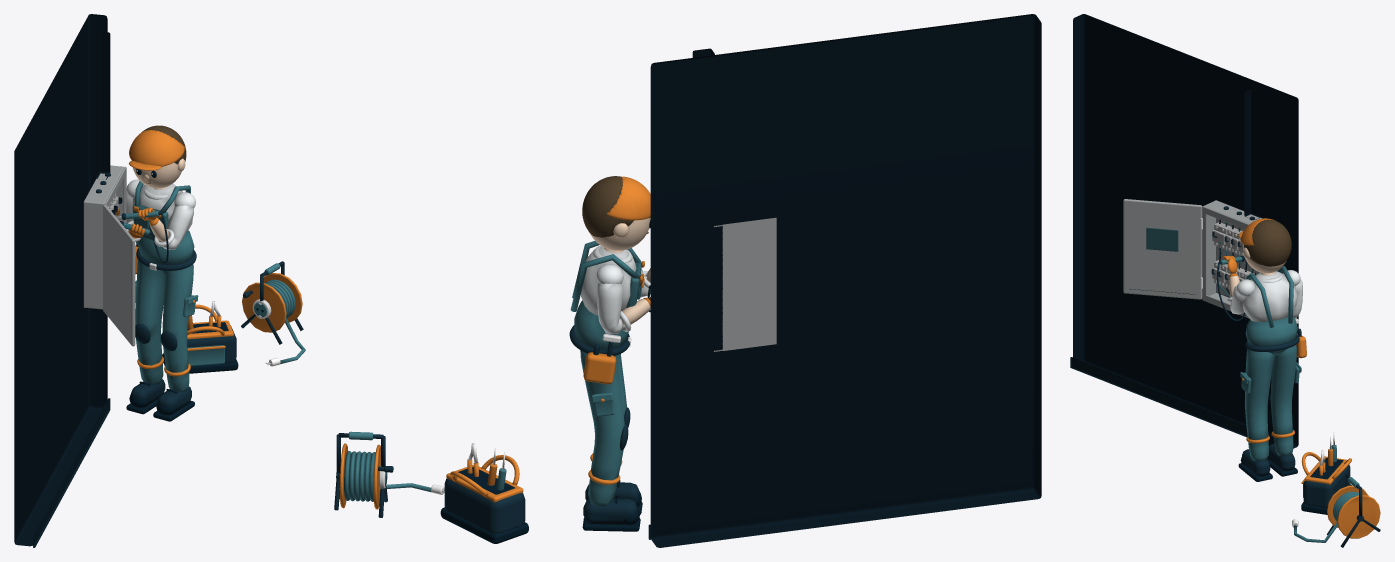
File: bild-5.glb
3 renders of one model, left to right at view 1: azimuth 30°, elevation 25°; view 2: azimuth 150°, elevation 25°; view 3: azimuth 270°, elevation 25°, orthographic. The views are drawn at different scales.
Visible parts, largest first — view 1: Kabelkanal, FachkraftBauch, Boden1, Automat05Hebel, Achse1, FachkraftArm1, Bruecke1, Buchse1, FachkraftHals, Automat02Hals, Fachkraft1Daumen; view 2: Kabelkanal, Boden1, FachkraftBauch, Achse1, Automat05Hebel, FachkraftArm1, Buchse1, Bruecke1, FachkraftBraue1, FachkraftHals; view 3: Kabelkanal, Boden1, FachkraftBauch, Achse1, Automat05Hebel, FachkraftArm1, FachkraftBraue1, Bruecke1, Automat02Hals, Buchse1, FachkraftHals.
Part boxes in pixels (box(x1,y1,x2,y2)): Kabelkanal: box(14, 14, 110, 546); FachkraftBauch: box(132, 181, 198, 392); Boden1: box(83, 165, 135, 346); Automat05Hebel: box(115, 130, 302, 376); Achse1: box(33, 172, 303, 547); FachkraftArm1: box(126, 179, 195, 249); Bruecke1: box(123, 211, 305, 366); Buchse1: box(126, 308, 263, 421); FachkraftHals: box(128, 158, 185, 241); Automat02Hals: box(109, 196, 280, 366); Fachkraft1Daumen: box(129, 208, 158, 238); Kabelkanal: box(650, 14, 1041, 547); Boden1: box(714, 217, 776, 351); FachkraftBauch: box(570, 241, 641, 506); Achse1: box(334, 285, 651, 539); Automat05Hebel: box(339, 176, 650, 509); FachkraftArm1: box(580, 245, 650, 334); Buchse1: box(386, 466, 642, 543); Bruecke1: box(344, 431, 506, 501); FachkraftBraue1: box(582, 176, 649, 237); FachkraftHals: box(590, 217, 650, 325); Kabelkanal: box(1073, 14, 1298, 448); Boden1: box(1123, 199, 1262, 318); FachkraftBauch: box(1240, 266, 1301, 461); Achse1: box(1070, 206, 1380, 547); Automat05Hebel: box(1238, 218, 1380, 538); FachkraftArm1: box(1227, 270, 1302, 322); FachkraftBraue1: box(1244, 219, 1291, 266); Bruecke1: box(1146, 222, 1359, 542); Automat02Hals: box(1212, 222, 1298, 526); Buchse1: box(1129, 218, 1351, 514); FachkraftHals: box(1229, 244, 1286, 297).
Bounding box in the file's own units: 2.99 × 2.6 × 2.09.
